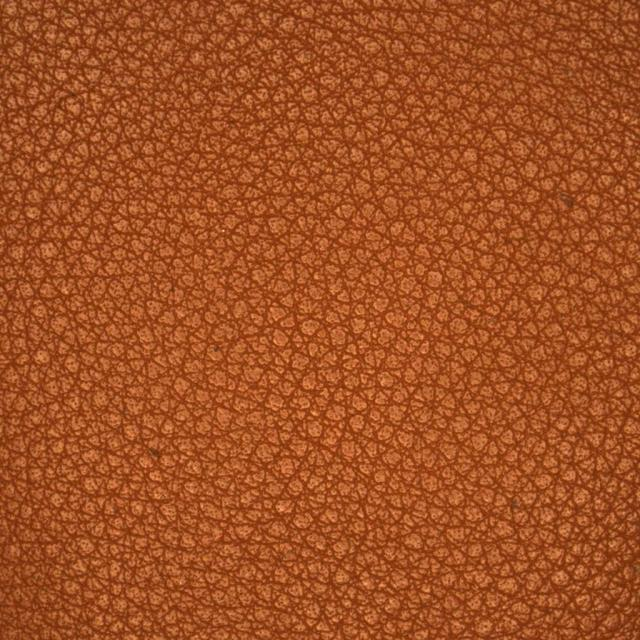Hole: (502, 129, 625, 273), (89, 390, 223, 514)
pinhole: (171, 233, 294, 339)
